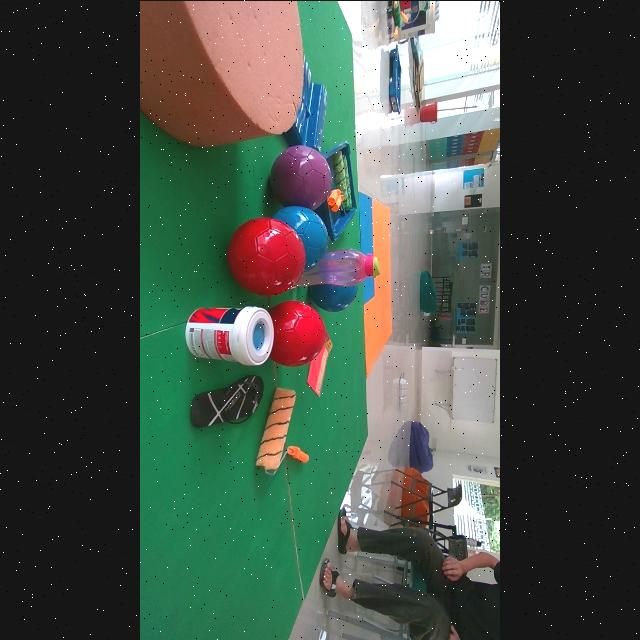B: (273, 205, 329, 269), (308, 284, 357, 311)
P: (270, 144, 330, 209)
R: (228, 217, 306, 294), (268, 299, 328, 366)
